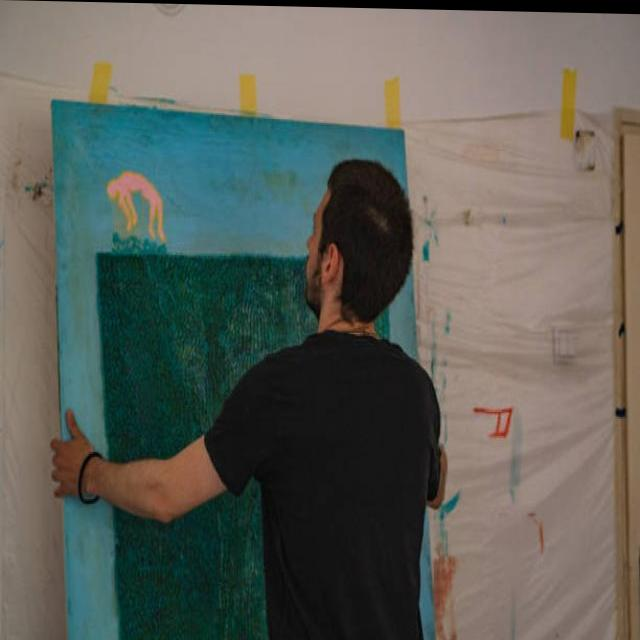no helmet: (308, 146, 419, 362)
